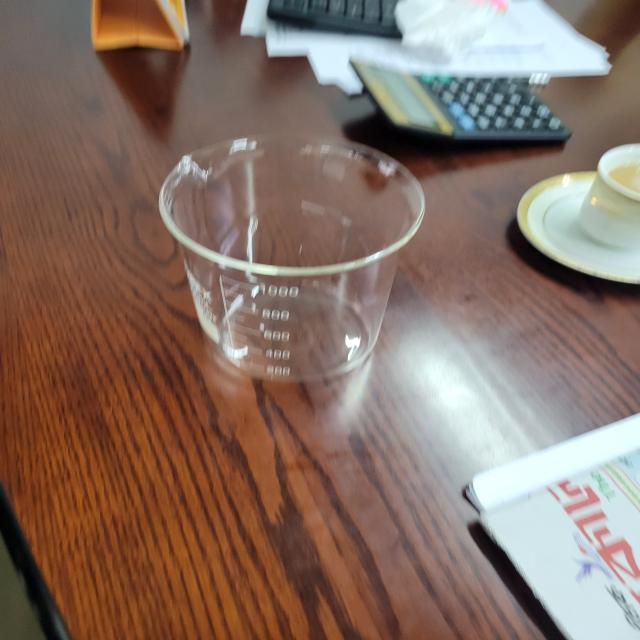Beaker: (85, 110, 463, 424)
